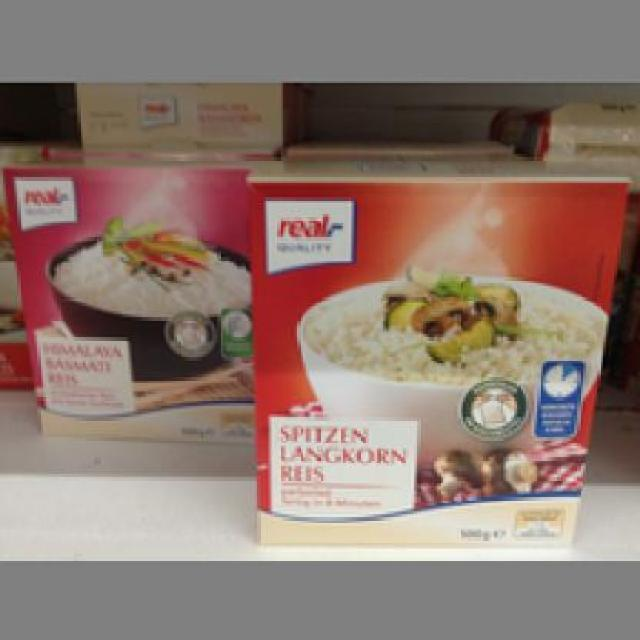Rice: (246, 157, 628, 543), (0, 151, 249, 440)
